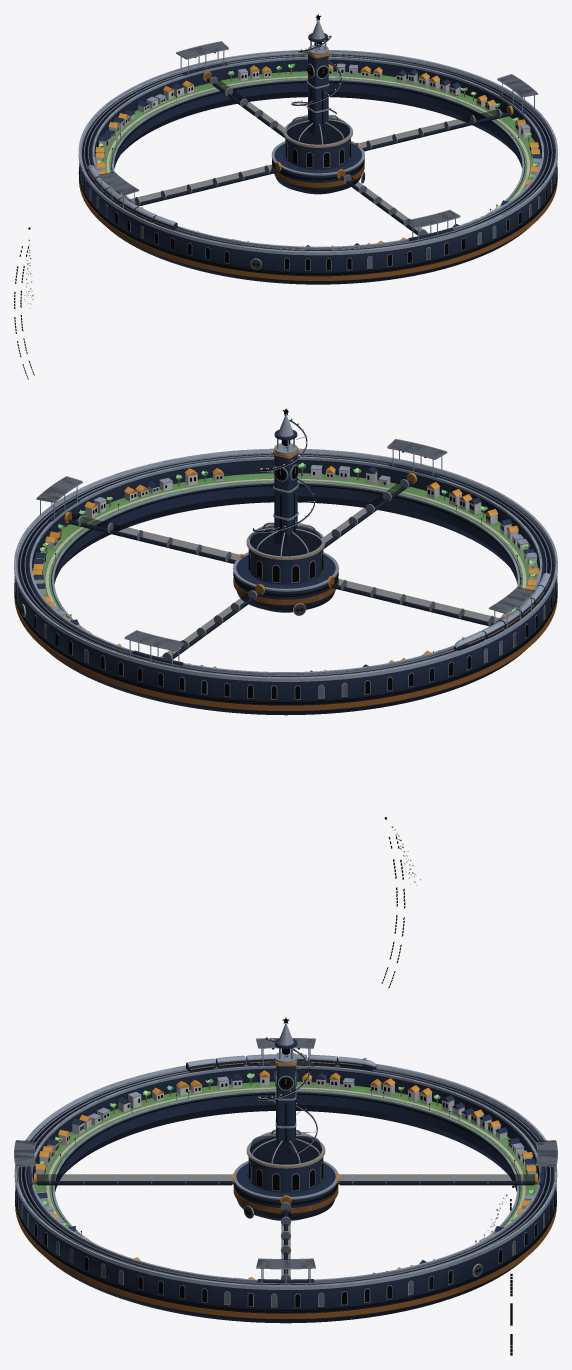
The model's file is SM_Evo_GrandTorus.fbx.
3 views of the same model, one above another, from view 1: azimuth 30°, elevation 25°; view 2: azimuth 150°, elevation 25°; view 3: azimuth 270°, elevation 25° (orthographic). The views are drawn at different scales.
Visible parts, largest first — view 1: SMN_Evo_GrandTorus, Emblem_Fx_GrandTorus, SpinDish_GrandTorusTrain; view 2: SMN_Evo_GrandTorus, Emblem_Fx_GrandTorus, SpinDish_GrandTorusTrain; view 3: SMN_Evo_GrandTorus, Emblem_Fx_GrandTorus, SpinDish_GrandTorusTrain.
Part boxes in pixels (x1=…): SMN_Evo_GrandTorus: x1=78, y1=20, x2=557, y2=284; Emblem_Fx_GrandTorus: x1=78, y1=14, x2=557, y2=275; SpinDish_GrandTorusTrain: x1=87, y1=165, x2=177, y2=230; SMN_Evo_GrandTorus: x1=14, y1=415, x2=557, y2=715; Emblem_Fx_GrandTorus: x1=14, y1=408, x2=557, y2=704; SpinDish_GrandTorusTrain: x1=454, y1=573, x2=550, y2=650; SMN_Evo_GrandTorus: x1=14, y1=1024, x2=557, y2=1323; Emblem_Fx_GrandTorus: x1=14, y1=1017, x2=557, y2=1312; SpinDish_GrandTorusTrain: x1=186, y1=1054, x2=376, y2=1072.
Size of the model in its own units: 4.83 by 4.34 by 4.83.
